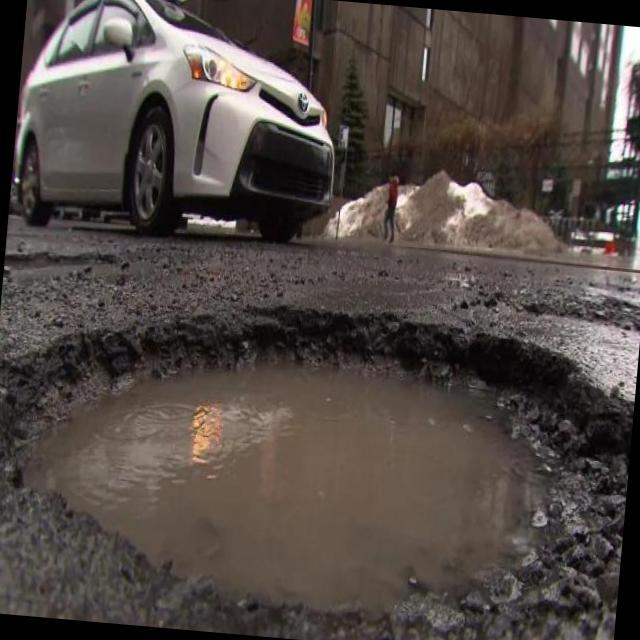Pothole: (0, 304, 634, 640)
